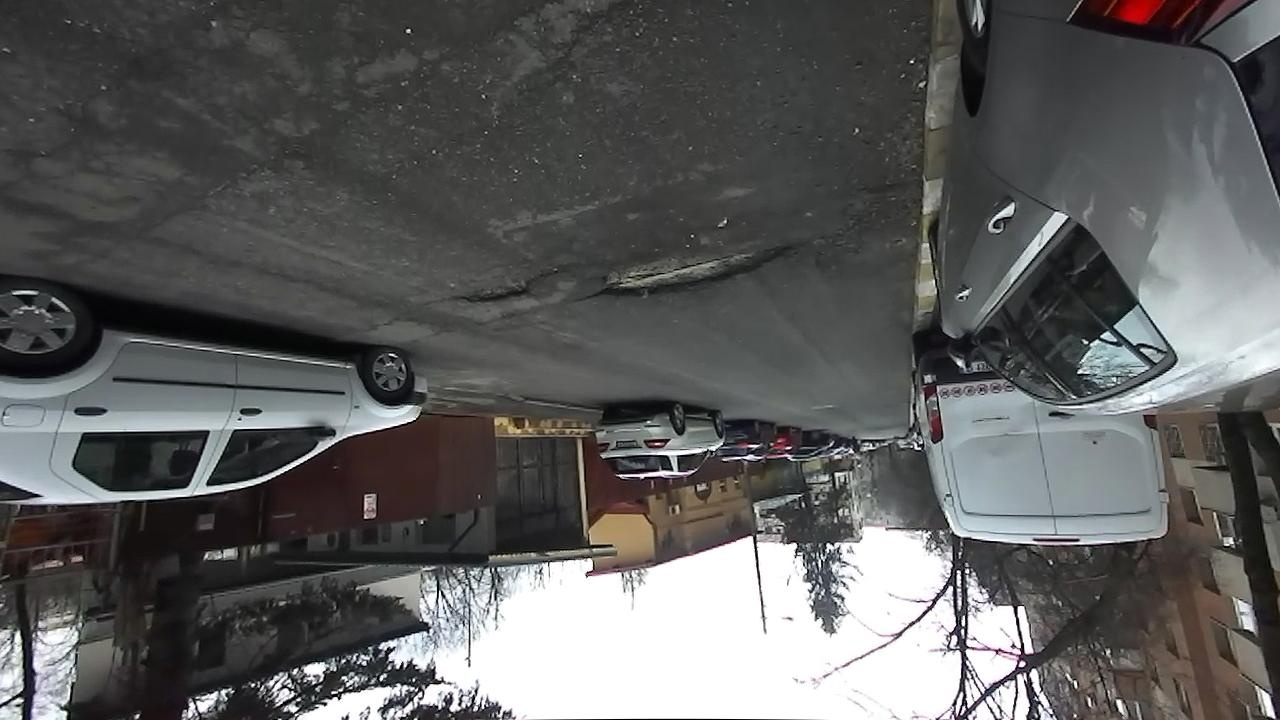pothole: (572, 234, 805, 308), (456, 266, 562, 307)
